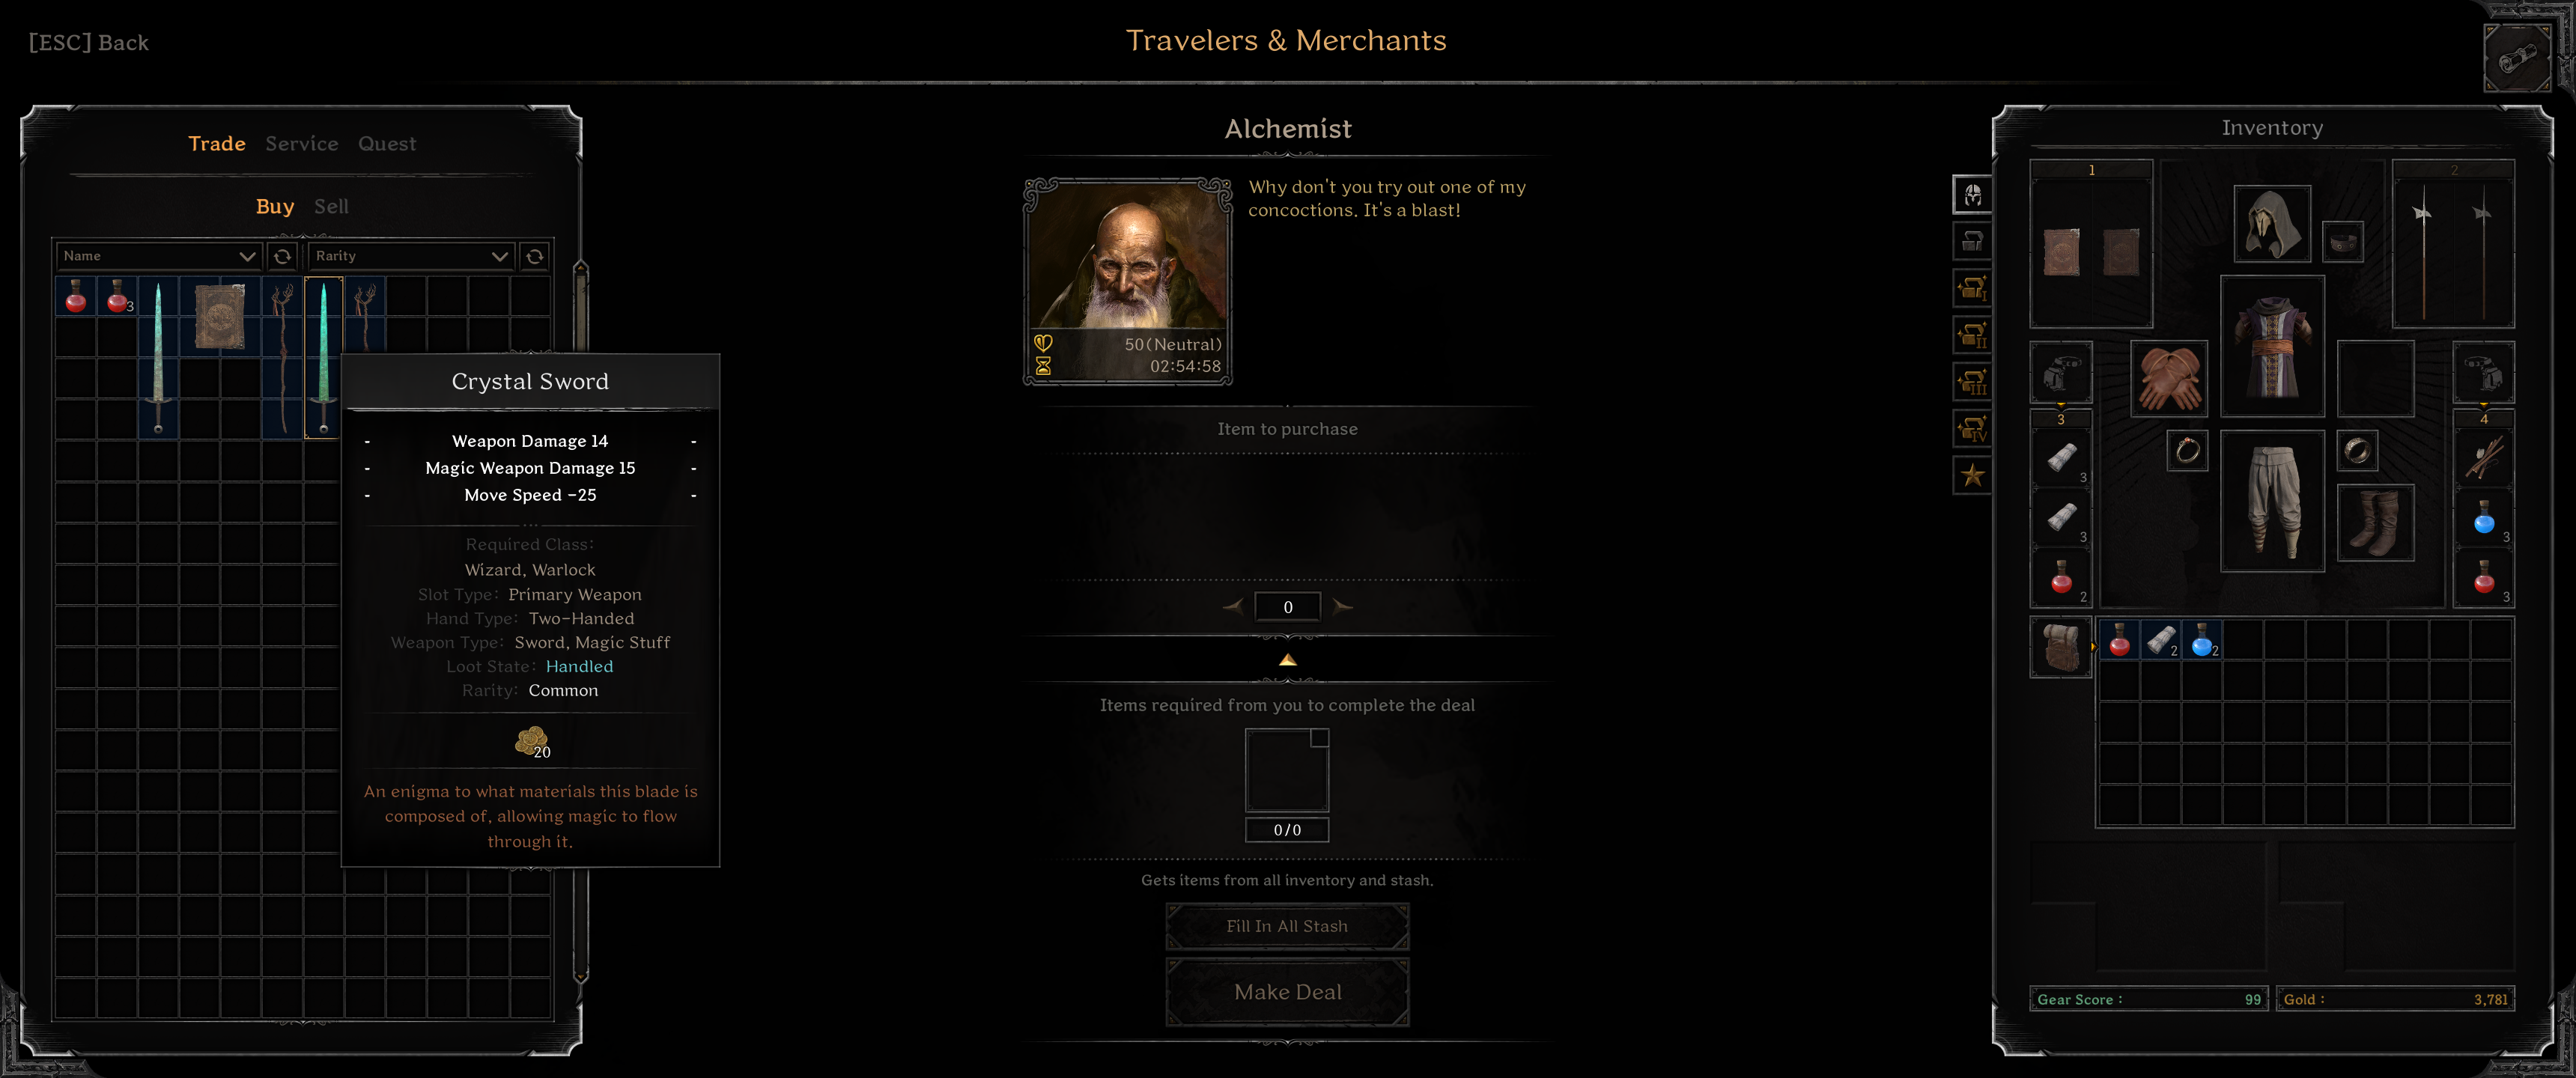Tooltip: (338, 352, 721, 869)
